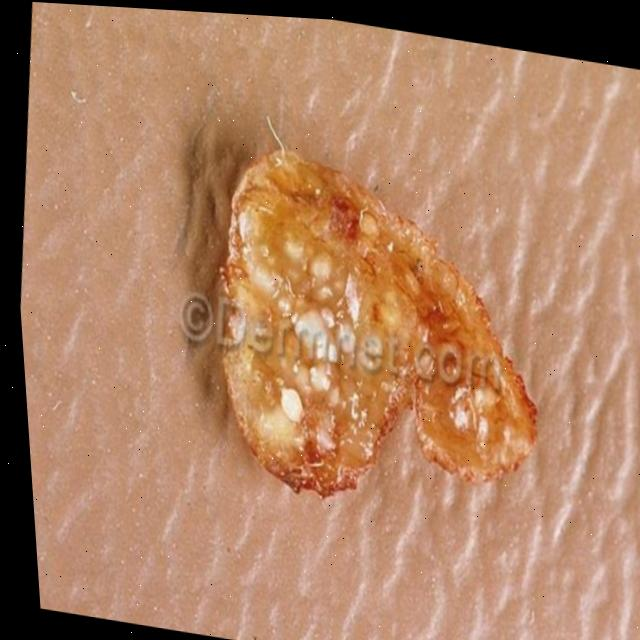Eczema: (174, 175, 537, 518)
